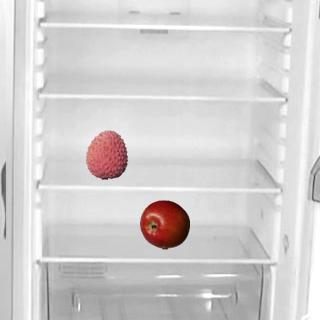Apple Braeburn: (139, 199, 189, 249)
Lychee: (81, 129, 131, 179)
